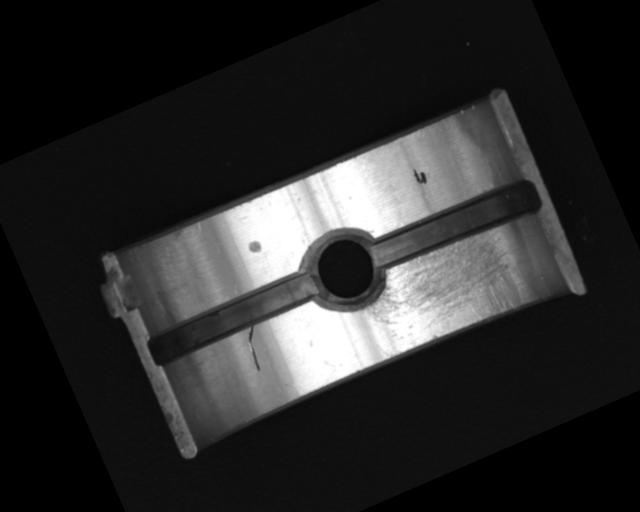blot: (411, 165, 429, 187)
bruise: (246, 237, 263, 255)
gap: (141, 264, 323, 370), (365, 172, 544, 277)
hole: (292, 217, 397, 325)
nick: (238, 323, 270, 372)
scratch: (350, 219, 535, 365)
